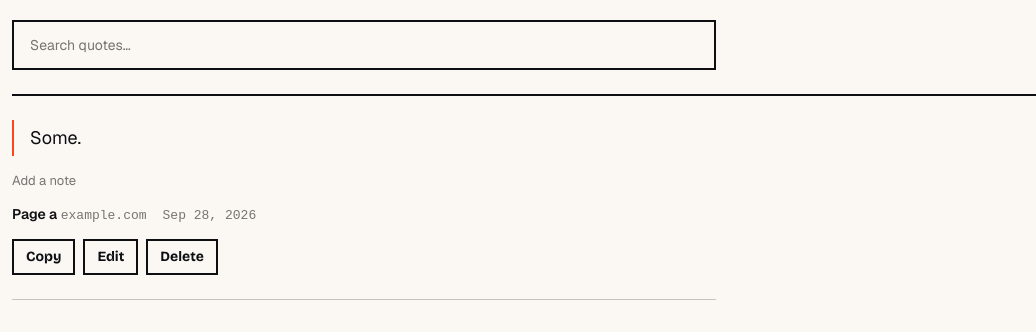
Test: QuotesPage › says nothing matches when a search finds nothing
Expected: the text "Some." is shown, [12, 120, 716, 156]
Type "zzz" into the search field labelled "Search quotes".
click(364, 45); type("zzz")  # box [12, 20, 716, 70]
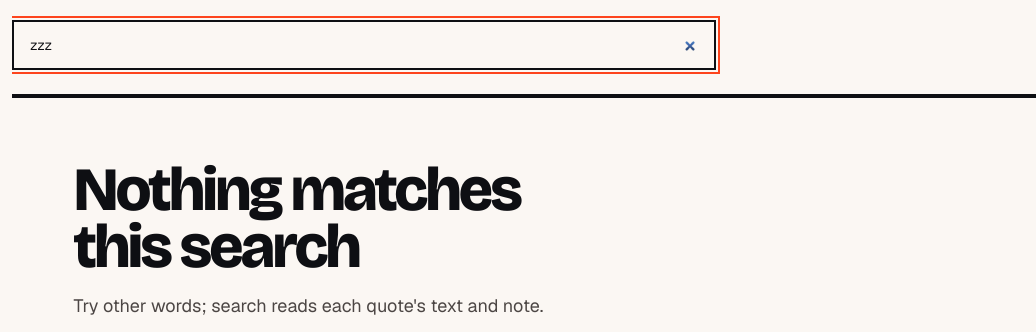
Now the heading "Nothing matches this search" is shown, box [73, 162, 535, 276]
